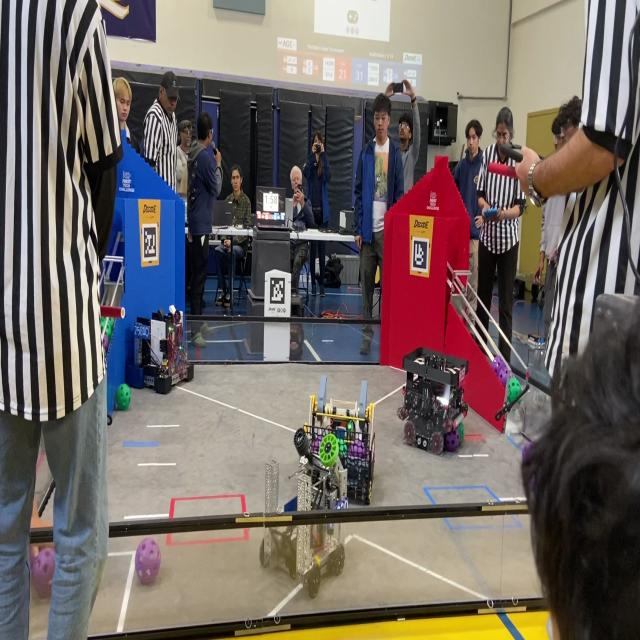artifact_green: (318, 433, 338, 467), (116, 384, 130, 410), (508, 377, 521, 402), (498, 365, 510, 387), (492, 356, 506, 374), (522, 442, 533, 460), (311, 435, 321, 453), (509, 377, 521, 392), (338, 439, 347, 458), (458, 423, 464, 445), (105, 325, 112, 343), (107, 318, 115, 331), (100, 317, 106, 331), (103, 335, 108, 351), (347, 421, 354, 432), (105, 332, 111, 344)
artifact_purple: (30, 548, 55, 597), (135, 538, 160, 584), (348, 440, 367, 459), (445, 428, 459, 452), (498, 365, 510, 387), (492, 356, 505, 374), (311, 435, 322, 454), (522, 442, 533, 460), (103, 333, 109, 350)
